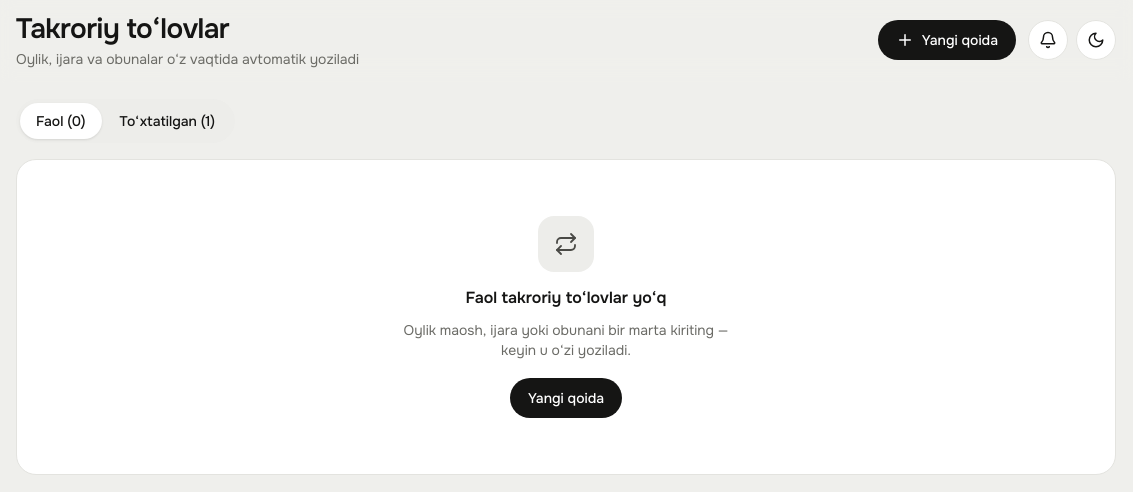
Test: RecurringPage › shows paused rules on their own tab
The width and height of the screenshot is (1133, 492).
Click the tab "To‘xtatilgan (1)": point(167, 121) x1=104 y1=103 x2=231 y2=139
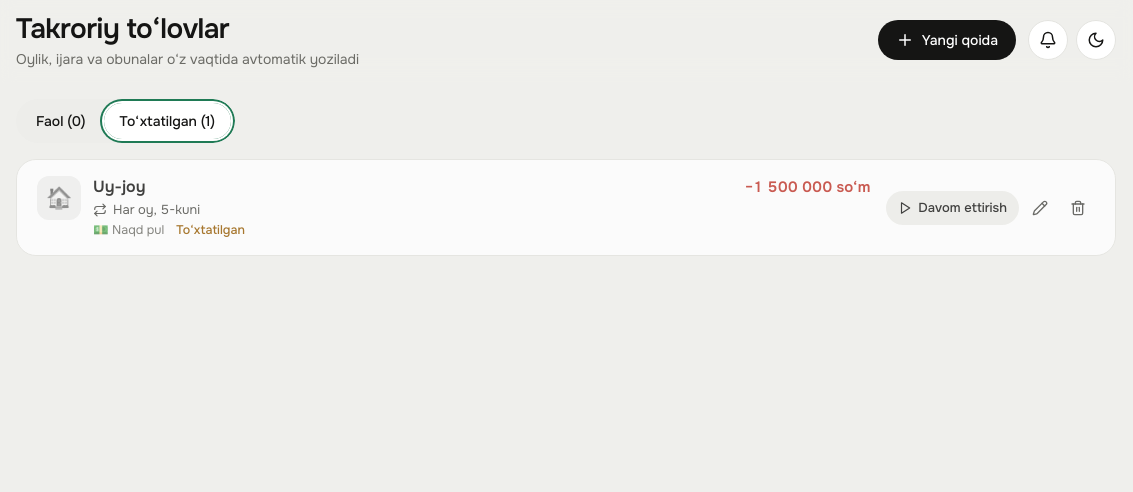
Expected: the button "Davom ettirish" is shown, x1=886 y1=190 x2=1019 y2=224
